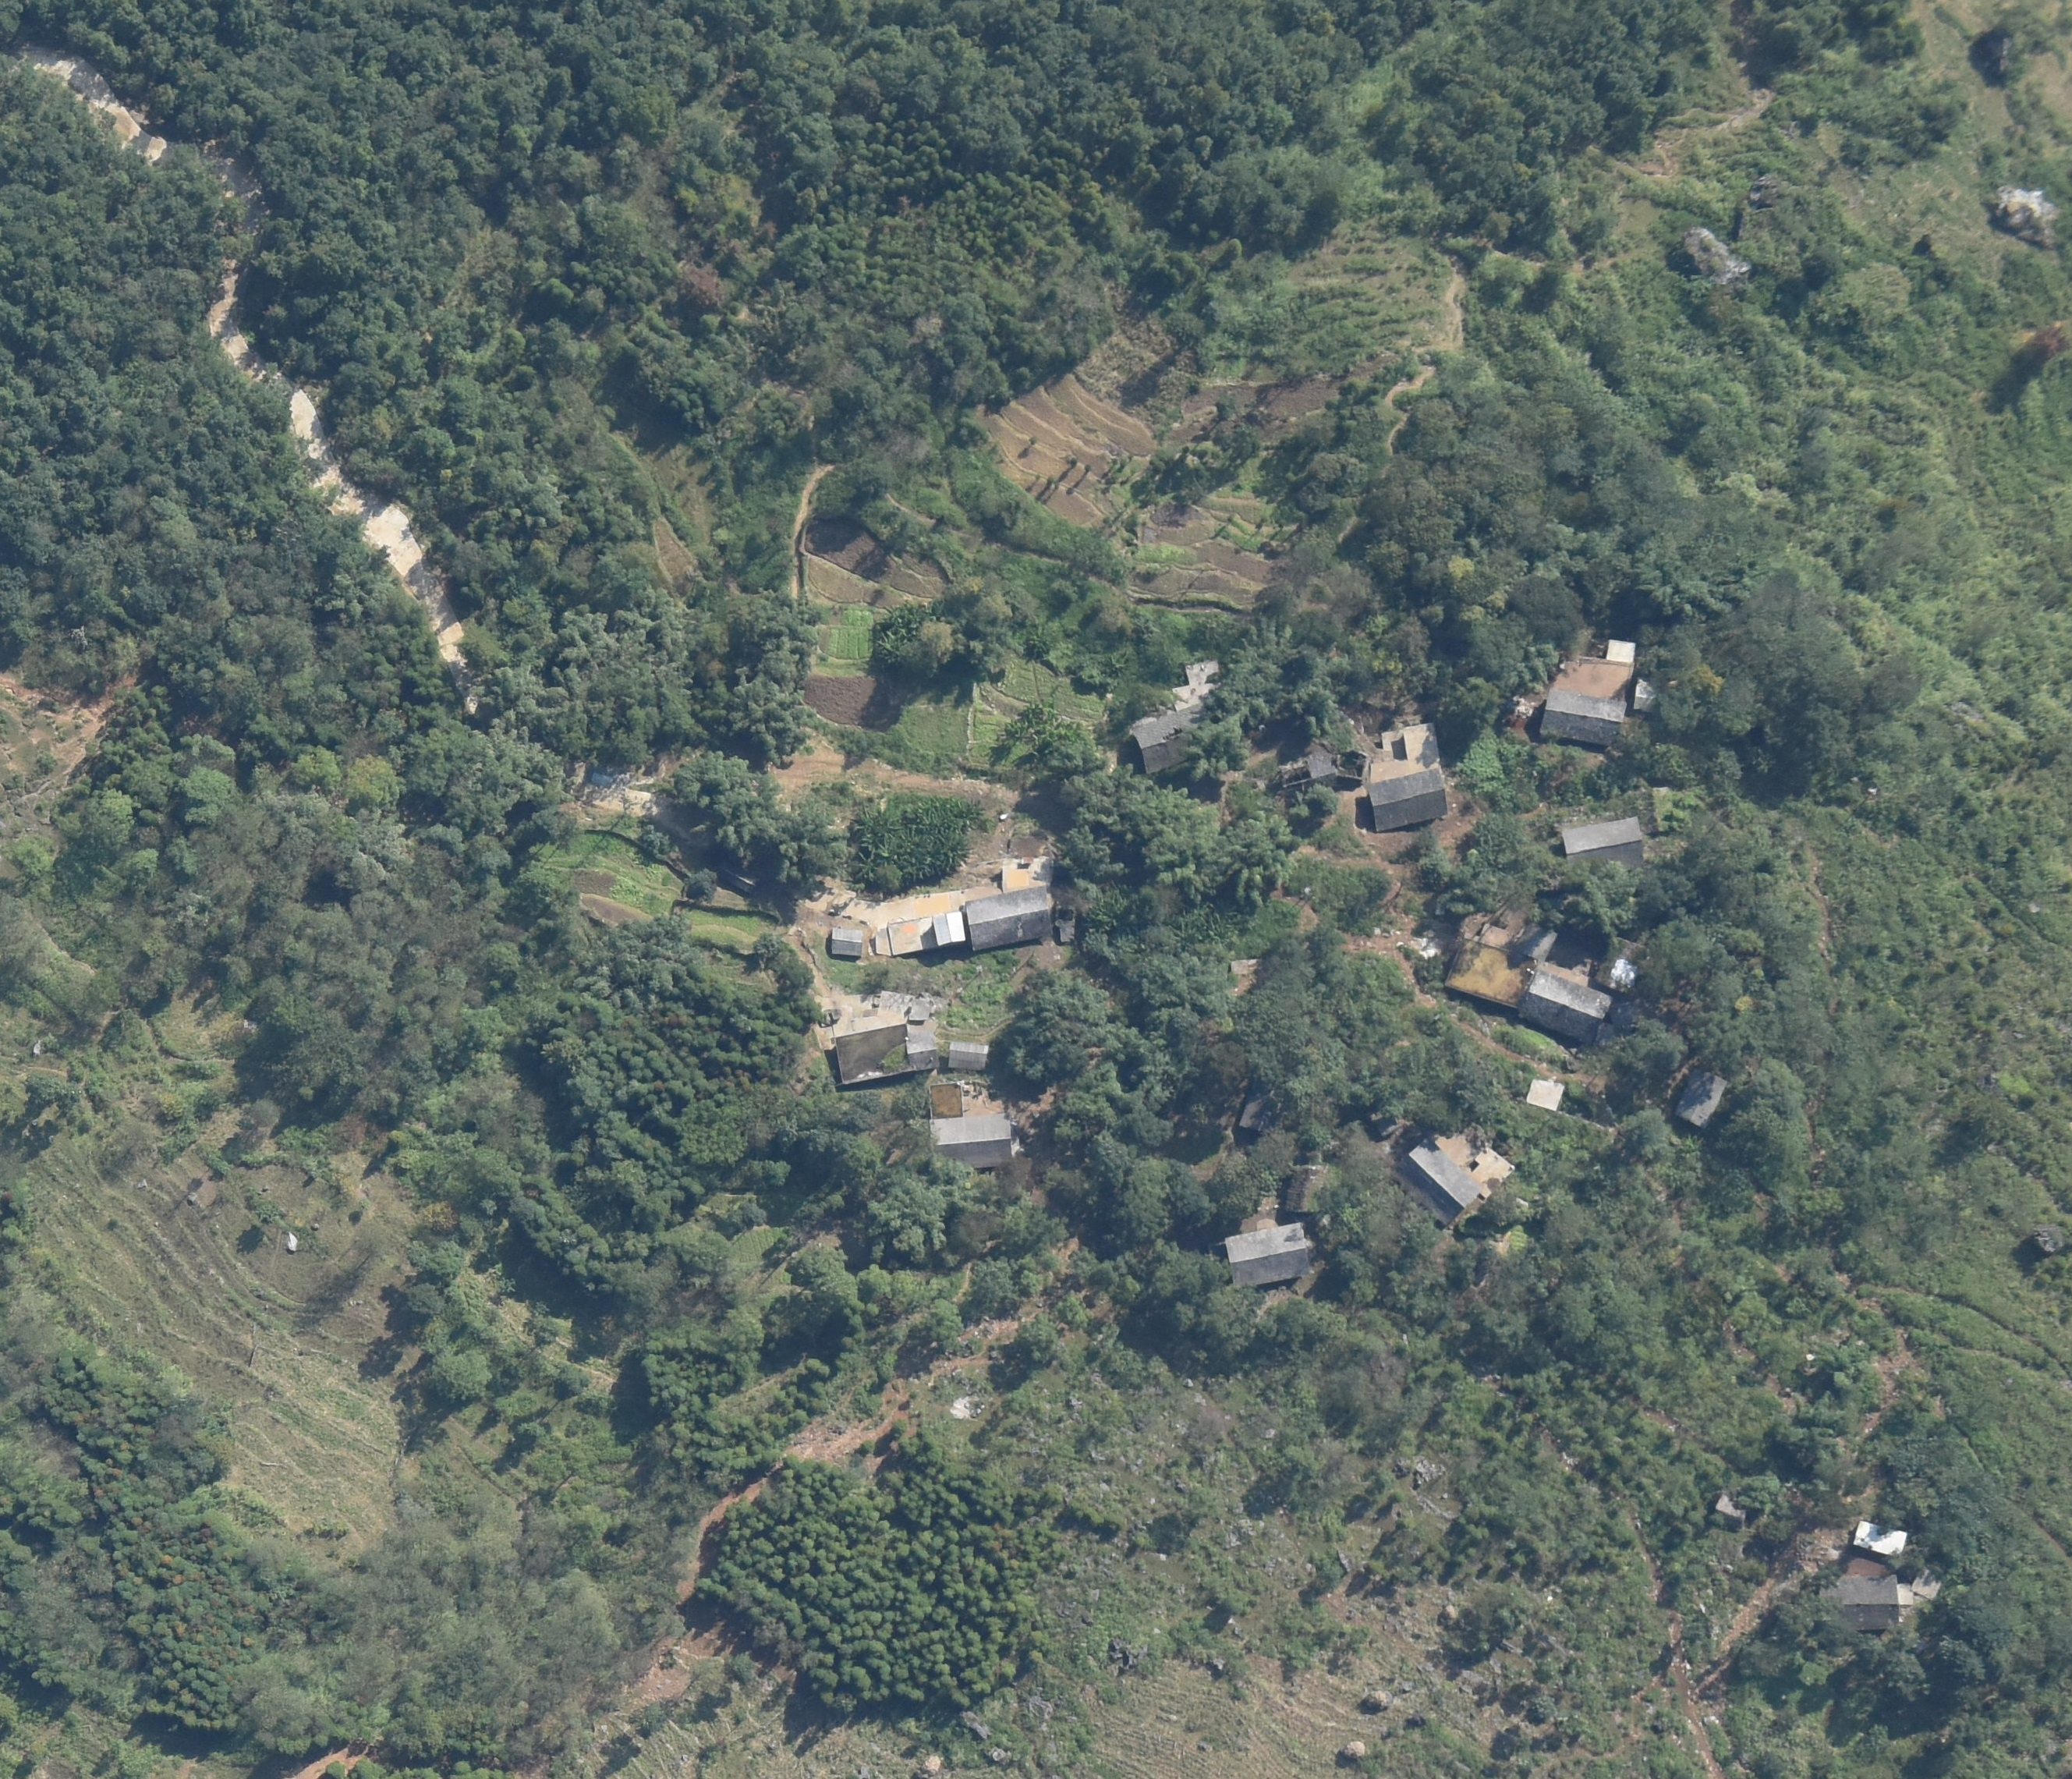building: (1400, 1125, 1511, 1225), (1447, 937, 1535, 1012), (1522, 969, 1610, 1043), (835, 1024, 939, 1086), (1224, 1223, 1310, 1287), (1129, 706, 1213, 771), (1368, 767, 1450, 831), (965, 886, 1051, 946), (1541, 690, 1626, 749), (1560, 815, 1644, 872), (1813, 1574, 1899, 1629), (929, 1119, 1011, 1164), (1677, 1065, 1725, 1130), (1380, 719, 1441, 762), (1596, 938, 1645, 991), (873, 916, 932, 955), (1173, 661, 1221, 707), (1238, 1078, 1275, 1132), (1854, 1521, 1909, 1556), (1287, 1168, 1327, 1213), (1301, 755, 1342, 790), (1521, 1078, 1564, 1111), (1517, 925, 1557, 959), (926, 1084, 965, 1118), (946, 1041, 989, 1071), (934, 913, 963, 948), (1711, 1496, 1748, 1523), (1635, 680, 1662, 716), (1914, 1566, 1944, 1597), (830, 928, 863, 954), (1606, 640, 1635, 664), (911, 998, 932, 1021), (1897, 1582, 1914, 1604)
